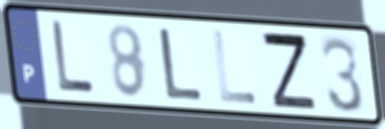3: (319, 32, 366, 116)
8: (105, 21, 148, 100)
L: (210, 28, 259, 107), (50, 17, 98, 97), (158, 25, 206, 103)
Z: (257, 29, 319, 112)
